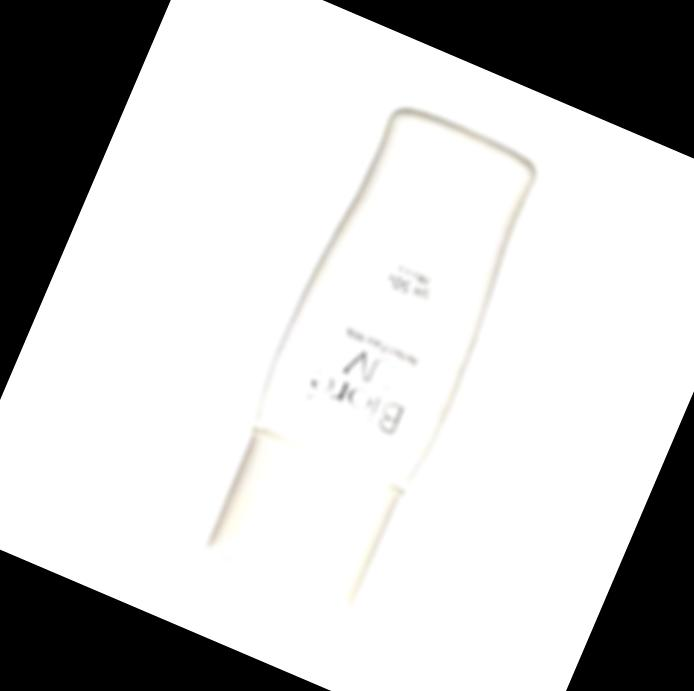cosmetic: (191, 93, 548, 616)
